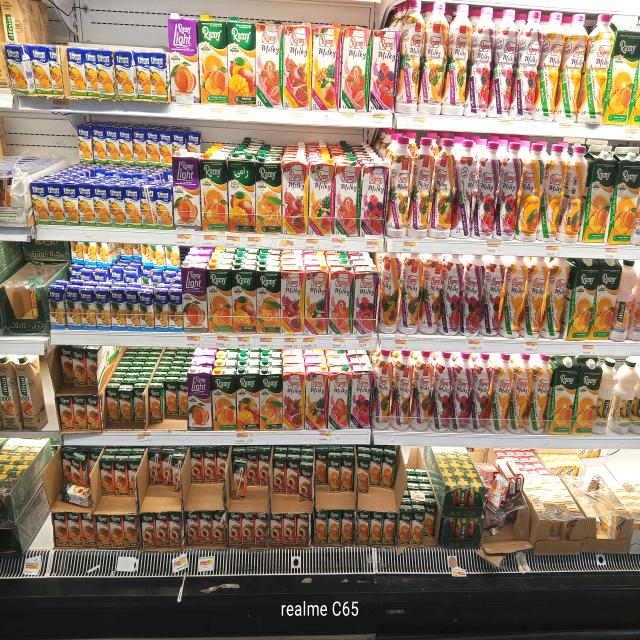Ifruit: (17, 354, 45, 430), (0, 356, 21, 433), (616, 360, 636, 430), (616, 261, 633, 341), (597, 361, 613, 431), (30, 284, 45, 326), (470, 519, 482, 549), (470, 486, 481, 516), (445, 520, 456, 546), (448, 484, 458, 509), (458, 520, 468, 545), (459, 484, 468, 510)
Pack Frutty Cocktail Trop 20 CL: (115, 50, 138, 99), (124, 180, 142, 227)
Pack Ramy Or-Pe-Fraise 20CL: (185, 511, 201, 545), (148, 451, 163, 487), (142, 512, 157, 548), (168, 509, 181, 547), (190, 450, 204, 484), (156, 512, 170, 546), (227, 512, 241, 546), (300, 461, 311, 503), (214, 510, 226, 545), (271, 516, 285, 546), (205, 450, 217, 484), (274, 458, 286, 492), (258, 512, 270, 546), (243, 512, 256, 543), (246, 451, 258, 484), (283, 514, 296, 544), (201, 510, 212, 545), (288, 457, 298, 495), (163, 452, 173, 487), (218, 450, 228, 485), (298, 515, 309, 545), (260, 452, 270, 484), (174, 455, 182, 489), (241, 491, 242, 492), (337, 510, 337, 513)
Pack Ramy Orange 20CL: (233, 459, 246, 498), (59, 347, 73, 383), (53, 512, 67, 547), (59, 395, 72, 431), (123, 515, 137, 548), (101, 461, 114, 496), (73, 396, 87, 428), (68, 512, 81, 546), (74, 348, 86, 384), (97, 515, 110, 548), (116, 462, 128, 497), (112, 515, 125, 547), (84, 513, 95, 546), (86, 349, 96, 385), (88, 396, 99, 428), (73, 459, 83, 489), (62, 450, 72, 479), (129, 462, 138, 494)
Pack Ramy Orange Abricot 20CL: (105, 386, 120, 423), (149, 388, 163, 423), (342, 453, 354, 492), (330, 452, 341, 493), (164, 381, 176, 416), (358, 455, 369, 493), (315, 450, 327, 484), (425, 502, 436, 539), (121, 386, 131, 425), (329, 511, 341, 543), (370, 513, 382, 545), (134, 386, 144, 424), (342, 511, 353, 543), (383, 453, 393, 488), (413, 510, 423, 545), (316, 510, 327, 541), (358, 511, 368, 544), (384, 513, 394, 545), (400, 510, 410, 542), (372, 453, 381, 487), (179, 381, 186, 414)
Pack Ramy premium abricot-peche 1L: (202, 17, 227, 106), (204, 154, 228, 232), (209, 266, 232, 324), (216, 371, 236, 430)
Premium Pack Ramy Light Orange 1L: (167, 14, 201, 104), (172, 153, 201, 229), (181, 264, 208, 329), (188, 370, 212, 428)
Premium Pack Ramy Mague 1L: (230, 17, 256, 107), (231, 154, 255, 234), (233, 264, 257, 332), (238, 368, 259, 430)
Ramy Milky Mangue 1L: (520, 142, 542, 241), (542, 146, 563, 246), (564, 147, 583, 242), (528, 355, 551, 430), (545, 258, 567, 336), (503, 257, 522, 341), (491, 354, 511, 432), (510, 357, 530, 429), (524, 256, 542, 335)
Ramy milky Cocktail 1L: (401, 2, 424, 112), (314, 28, 338, 114), (412, 136, 432, 236), (433, 139, 452, 240), (310, 160, 334, 236), (393, 135, 409, 238), (401, 253, 419, 337), (421, 253, 439, 333), (308, 266, 328, 337), (413, 354, 431, 431), (374, 352, 391, 429), (394, 353, 411, 430), (306, 366, 327, 428), (383, 255, 398, 331)
Ramy milky fraise 1L: (341, 28, 368, 114), (258, 14, 282, 108), (336, 163, 359, 237), (329, 267, 352, 335), (328, 364, 350, 428)
Ramy milky fraise framboise 1L: (516, 12, 539, 120), (473, 12, 496, 115), (368, 30, 396, 114), (447, 5, 467, 118), (492, 14, 513, 115), (498, 142, 519, 242), (475, 141, 496, 237), (363, 160, 388, 237), (427, 5, 444, 116), (454, 140, 471, 238), (463, 258, 483, 337), (434, 355, 453, 431), (354, 267, 375, 334), (471, 352, 488, 433), (485, 258, 502, 333), (352, 365, 372, 428), (454, 357, 471, 430), (444, 254, 459, 334)
Ramy milky grenade 1L: (286, 22, 309, 110), (283, 156, 307, 235), (282, 266, 304, 332), (285, 370, 305, 429)
Ramy milky mague 1L: (583, 14, 611, 122), (543, 13, 565, 117)
RamyPack Frutty Cocktail Trop 20 CL: (5, 44, 32, 94), (116, 47, 136, 98), (67, 48, 85, 96), (96, 48, 114, 94), (92, 184, 110, 226), (47, 183, 65, 224), (51, 46, 66, 95), (126, 188, 142, 226), (110, 184, 124, 227), (65, 181, 80, 220), (35, 45, 48, 90), (142, 188, 156, 228), (30, 183, 45, 220), (1, 173, 14, 214), (159, 189, 172, 228), (146, 128, 160, 164), (86, 51, 98, 92), (140, 52, 150, 98), (154, 53, 164, 99), (77, 123, 90, 158), (92, 126, 105, 156), (108, 125, 118, 163), (81, 187, 91, 223), (120, 129, 132, 158), (135, 131, 146, 160), (162, 132, 171, 161), (188, 134, 200, 150), (174, 134, 183, 151)
RamyPack Frutty ananas 20 CL: (51, 286, 67, 328), (69, 286, 82, 328), (113, 290, 126, 326), (84, 287, 96, 325), (99, 288, 110, 328), (128, 292, 140, 328), (156, 292, 168, 327), (170, 292, 182, 326), (143, 292, 153, 330)
Soumy: (560, 16, 582, 123), (491, 475, 507, 512), (545, 504, 561, 538), (506, 458, 522, 488), (563, 514, 578, 544), (612, 514, 627, 544), (499, 459, 513, 489), (600, 509, 611, 538), (623, 483, 634, 500), (555, 461, 563, 480), (576, 462, 583, 483), (564, 464, 574, 478), (578, 448, 588, 461), (589, 448, 596, 458)
candia: (612, 149, 640, 244), (612, 26, 638, 123), (585, 149, 612, 242), (569, 257, 597, 340), (552, 357, 576, 432), (599, 258, 615, 339), (579, 356, 595, 433)
ramy premium Orange 1L: (257, 155, 281, 231), (260, 368, 283, 431), (259, 266, 280, 332)
